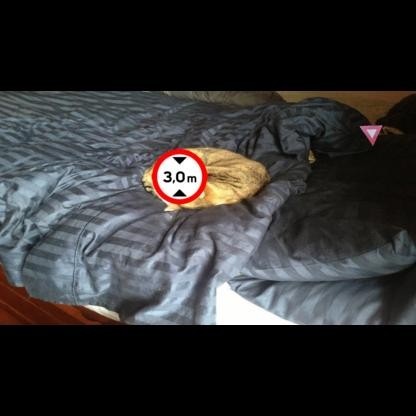R-15: (152, 149, 207, 204)
